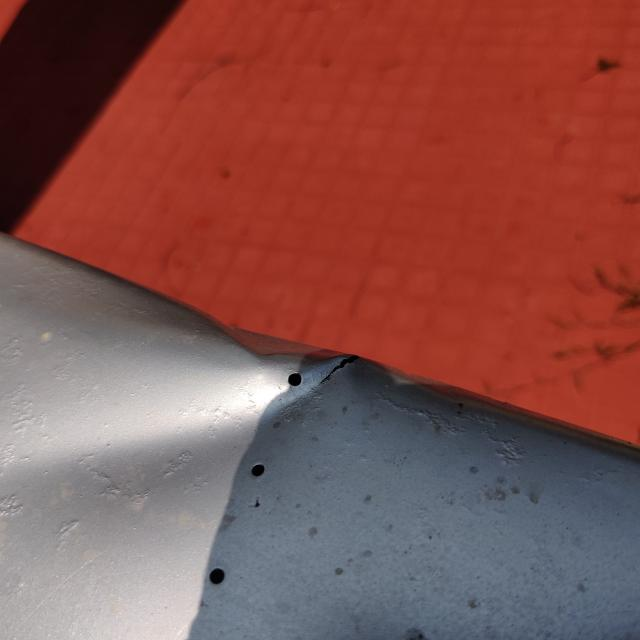crack: (312, 333, 369, 397)
dent: (30, 233, 377, 512)
